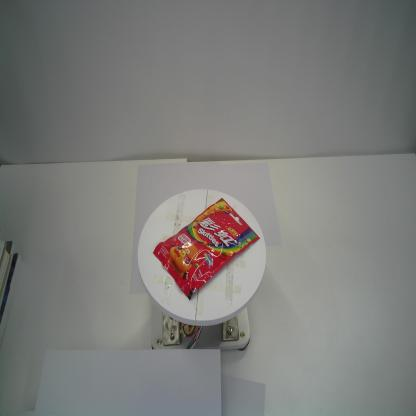Candy: (152, 195, 261, 301)
